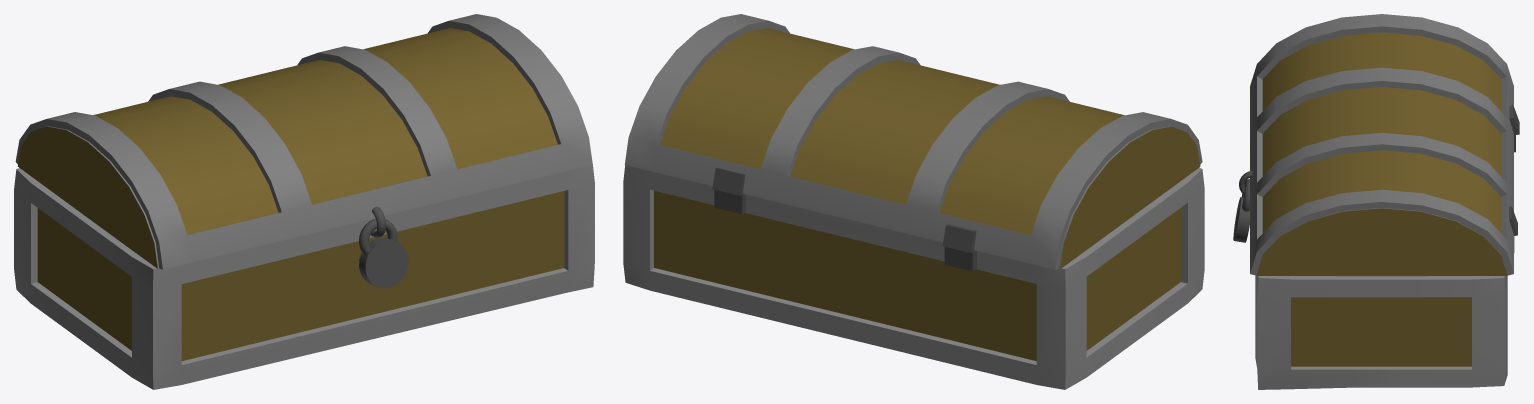
The model's file is chest.fbx.
3 renders of one model, left to right at view 1: azimuth 30°, elevation 25°; view 2: azimuth 150°, elevation 25°; view 3: azimuth 270°, elevation 25°, orthographic. The views are drawn at different scales.
Visible parts, largest first — view 1: footlocker1; view 2: footlocker1; view 3: footlocker1.
Part boxes in pixels (bbox=[...]): footlocker1: bbox=[14, 14, 594, 389]; footlocker1: bbox=[623, 14, 1204, 389]; footlocker1: bbox=[1233, 14, 1519, 389].
Size of the model in its own units: 15.48 by 6.98 by 9.61.
